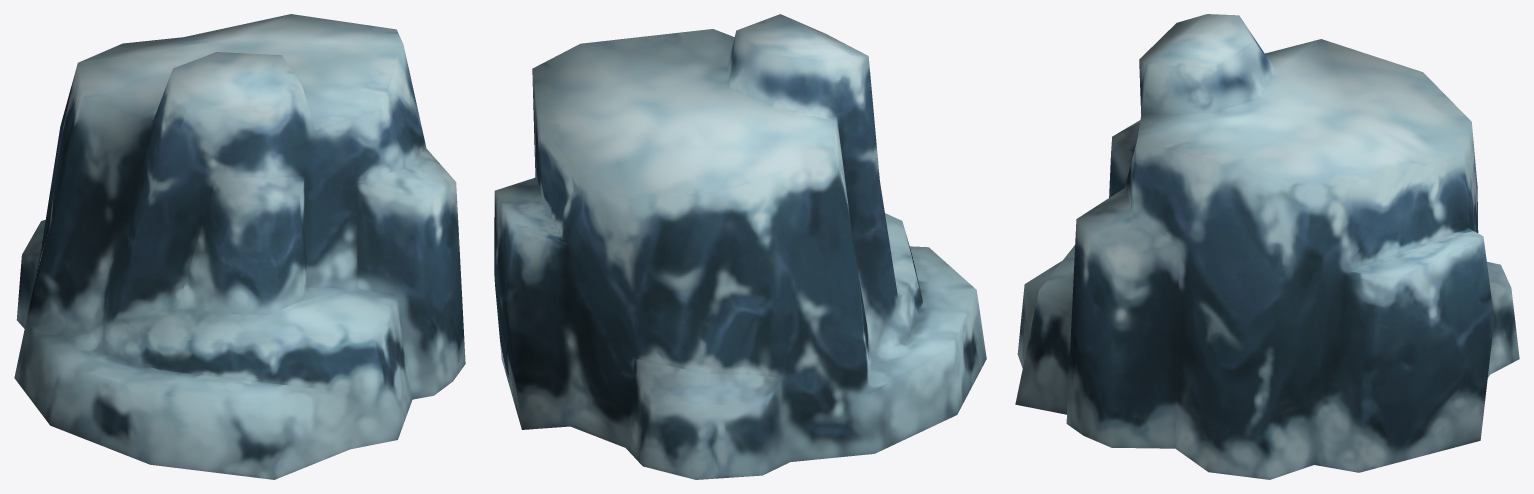
File: Stage_BingYuan_ShanShi03.FBX
The picture shows the model from 3 angles, left to right: view 1: azimuth 30°, elevation 25°; view 2: azimuth 150°, elevation 25°; view 3: azimuth 270°, elevation 25°; orthographic projection. The views are drawn at different scales.
Visible parts, largest first — view 1: Stage_BingYuan_ShanShi03; view 2: Stage_BingYuan_ShanShi03; view 3: Stage_BingYuan_ShanShi03.
Part boxes in pixels (x1=…): Stage_BingYuan_ShanShi03: x1=14, y1=14, x2=465, y2=479; Stage_BingYuan_ShanShi03: x1=494, y1=14, x2=986, y2=479; Stage_BingYuan_ShanShi03: x1=1015, y1=14, x2=1519, y2=479.
Size of the model in its own units: 929 by 732 by 978.
